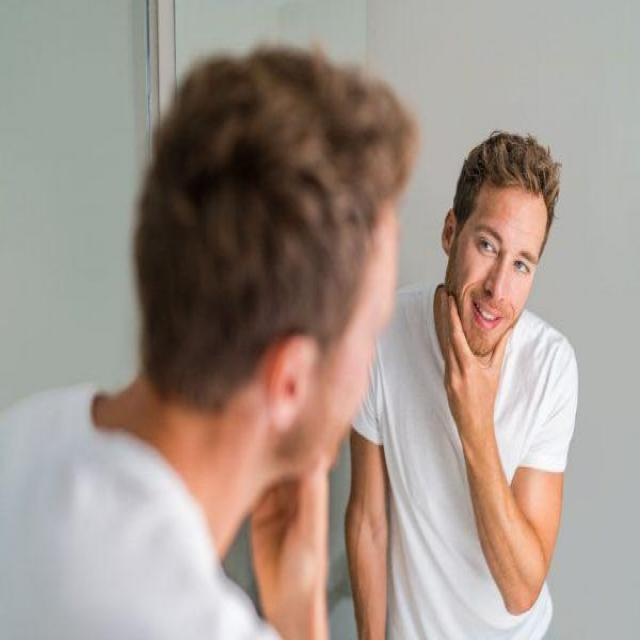person: (14, 17, 417, 638), (431, 97, 579, 638)
